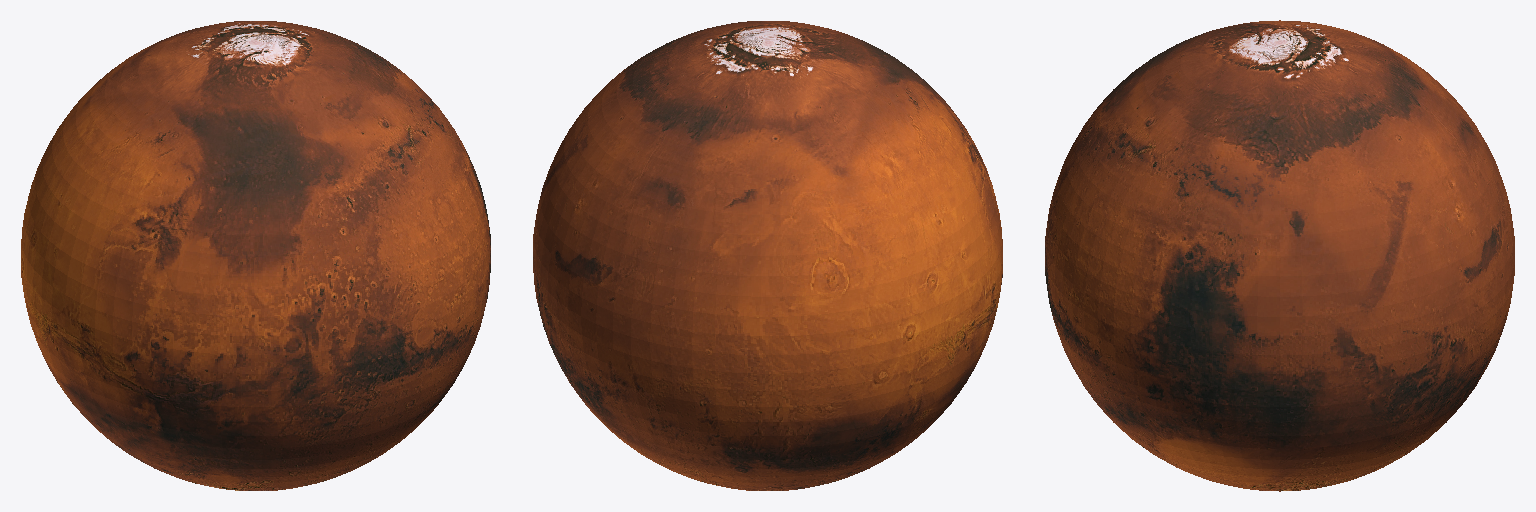
3 views of the same model, side by side, from view 1: azimuth 30°, elevation 25°; view 2: azimuth 150°, elevation 25°; view 3: azimuth 270°, elevation 25° (orthographic).
Parts seen in each view (by area): view 1: Sphere; view 2: Sphere; view 3: Sphere.
Part boxes in pixels (x1,y1,x2,y2): Sphere: (21,21,490,490); Sphere: (533,21,1002,490); Sphere: (1045,20,1514,491).
Size of the model in its own units: 10.64 by 10.64 by 10.64.
1 materials, 1 textured.